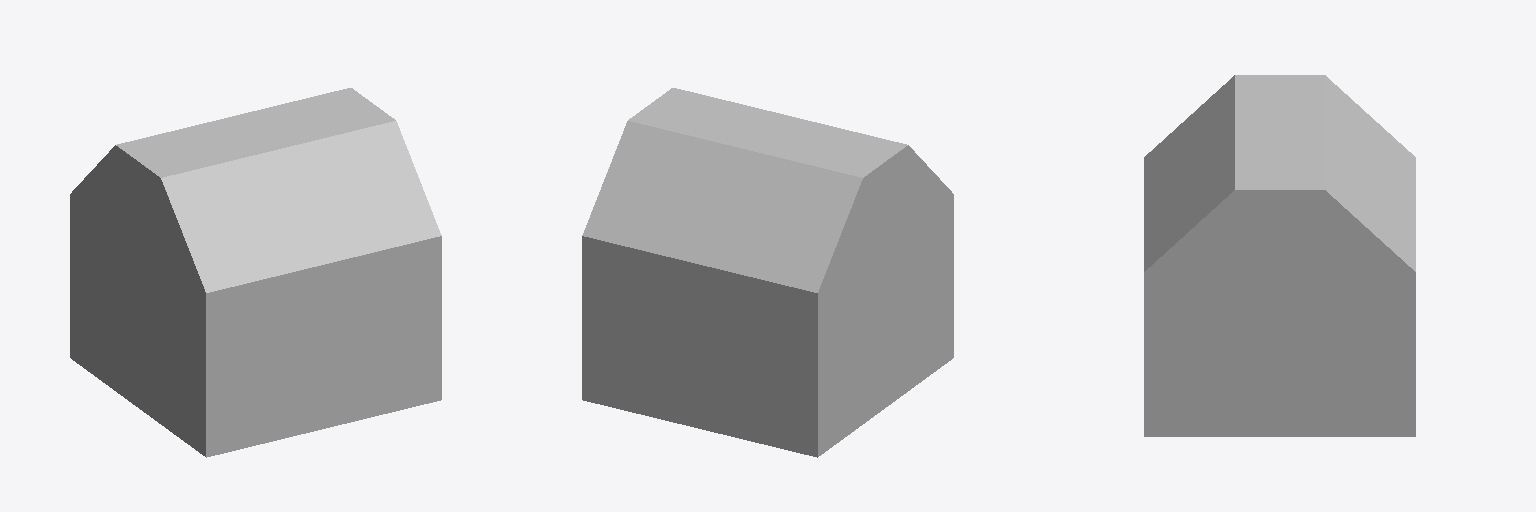
File: House3.obj
3 views of the same model, side by side, from view 1: azimuth 30°, elevation 25°; view 2: azimuth 150°, elevation 25°; view 3: azimuth 270°, elevation 25° (orthographic).
Visible parts, largest first — view 1: Plane.062_Plane.041, Plane.061_Plane.040, Plane.060_Plane.065, Plane.092, Plane.093, Plane.089, Plane.088, Plane.070, Plane.071, Plane.101, Plane.098, Plane.097 (+9 smaller); view 2: Plane.065_Plane.039, Plane.064_Plane.038, Plane.063_Plane.037, Plane.099, Plane.100, Plane.091, Plane.090, Plane.067, Plane.068, Plane.095, Plane.094, Plane.097 (+9 smaller); view 3: Plane.086, Plane.082, Plane.084, Plane.087, Plane.083, Plane.085, Plane.056_Plane.062, Plane.055_Plane.061, Plane.054_Plane.060, Plane.059_Plane.064, Plane.063_Plane.037, Plane.060_Plane.065 (+6 smaller).
Boxes of the visible parts, <box> form: Plane.062_Plane.041: <box>240,140,362,273</box>; Plane.061_Plane.040: <box>318,121,441,254</box>; Plane.060_Plane.065: <box>161,159,283,292</box>; Plane.092: <box>206,274,284,375</box>; Plane.093: <box>206,356,284,457</box>; Plane.089: <box>363,318,441,418</box>; Plane.088: <box>363,236,441,336</box>; Plane.070: <box>285,255,362,355</box>; Plane.071: <box>285,337,362,437</box>; Plane.101: <box>70,276,115,390</box>; Plane.098: <box>70,194,115,308</box>; Plane.097: <box>116,310,160,423</box>; Plane.065_Plane.039: <box>582,121,705,254</box>; Plane.064_Plane.038: <box>661,140,783,273</box>; Plane.063_Plane.037: <box>740,159,862,292</box>; Plane.099: <box>739,274,817,375</box>; Plane.100: <box>739,356,817,457</box>; Plane.091: <box>582,318,660,418</box>; Plane.090: <box>582,236,660,336</box>; Plane.067: <box>661,255,738,355</box>; Plane.068: <box>661,337,738,437</box>; Plane.095: <box>908,276,953,390</box>; Plane.094: <box>908,194,953,308</box>; Plane.097: <box>863,310,907,423</box>; Plane.086: <box>1144,272,1234,354</box>; Plane.082: <box>1325,272,1415,354</box>; Plane.084: <box>1235,272,1324,354</box>; Plane.087: <box>1144,355,1234,436</box>; Plane.083: <box>1325,355,1415,436</box>; Plane.085: <box>1235,355,1324,436</box>; Plane.056_Plane.062: <box>1235,190,1324,271</box>; Plane.055_Plane.061: <box>1145,190,1234,271</box>; Plane.054_Plane.060: <box>1325,190,1414,271</box>; Plane.059_Plane.064: <box>1235,75,1324,113</box>; Plane.063_Plane.037: <box>1325,75,1415,194</box>; Plane.060_Plane.065: <box>1144,75,1234,194</box>.
Bounding box in the file's own units: 6 × 6 × 6.